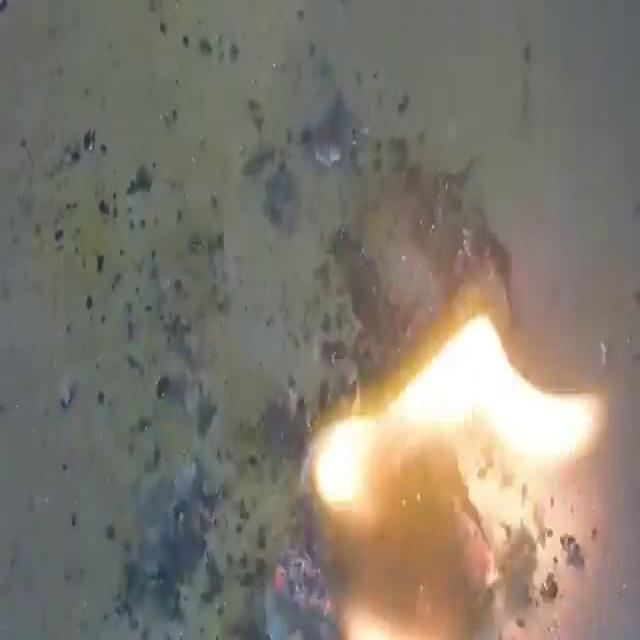Fire: (3, 4, 622, 636), (302, 304, 607, 636)
